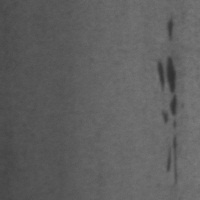inclusion: (157, 93, 182, 187), (154, 53, 181, 96), (163, 16, 178, 45)
